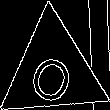O_NE: (25, 38, 81, 103)
